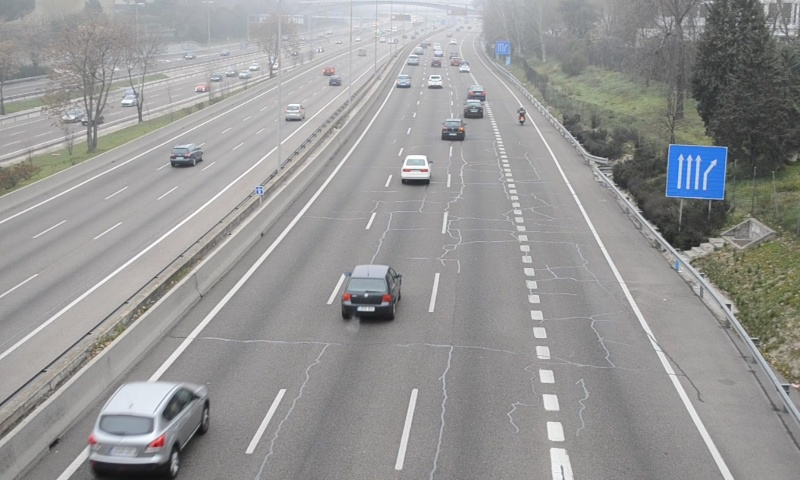car: (89, 381, 210, 474), (340, 264, 402, 319), (401, 154, 431, 182), (442, 118, 464, 140), (463, 99, 484, 119), (467, 84, 487, 100), (426, 73, 445, 87), (396, 72, 412, 86)
motorcycle: (516, 106, 527, 127)
